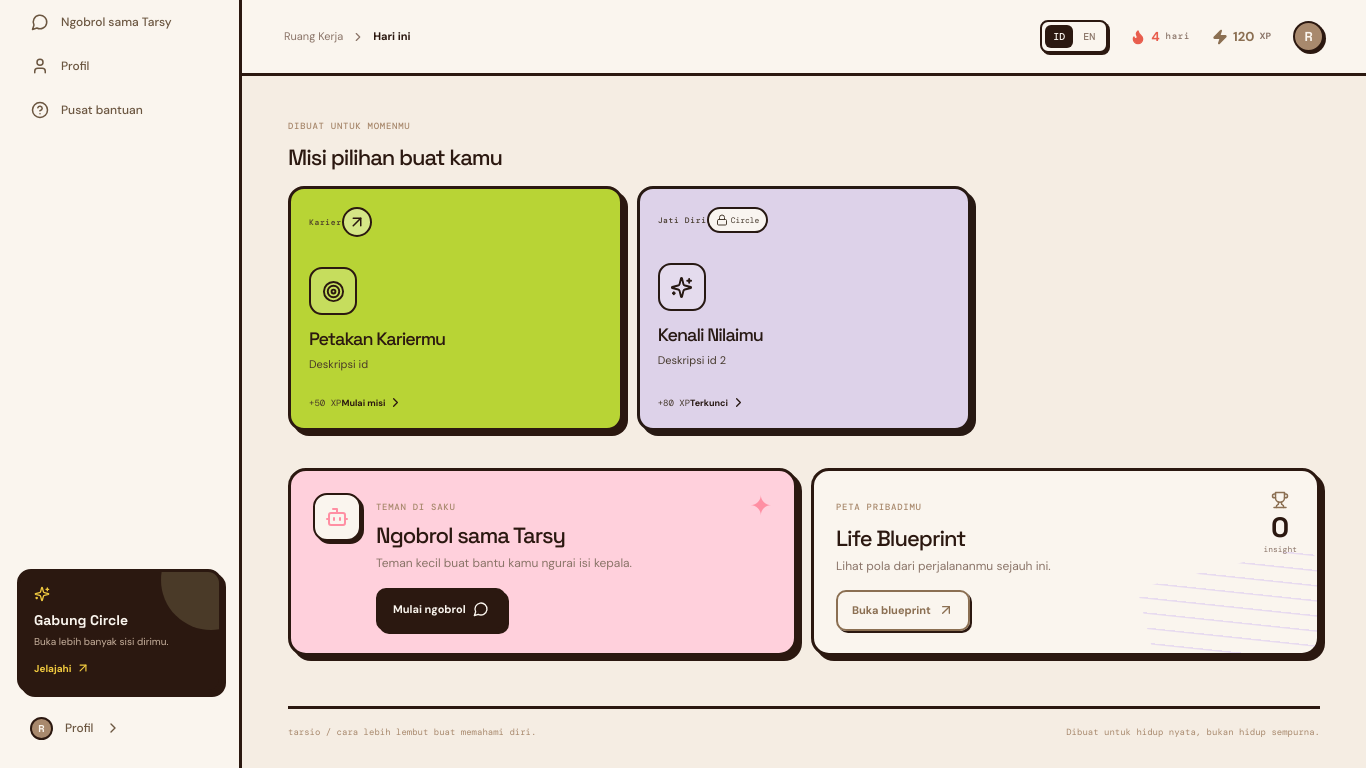
Test: Dashboard › opens the upgrade paywall from the sidebar CTA
(page scrolled)
Click the button "Jelajahi" at (62, 668), box [34, 661, 90, 676]
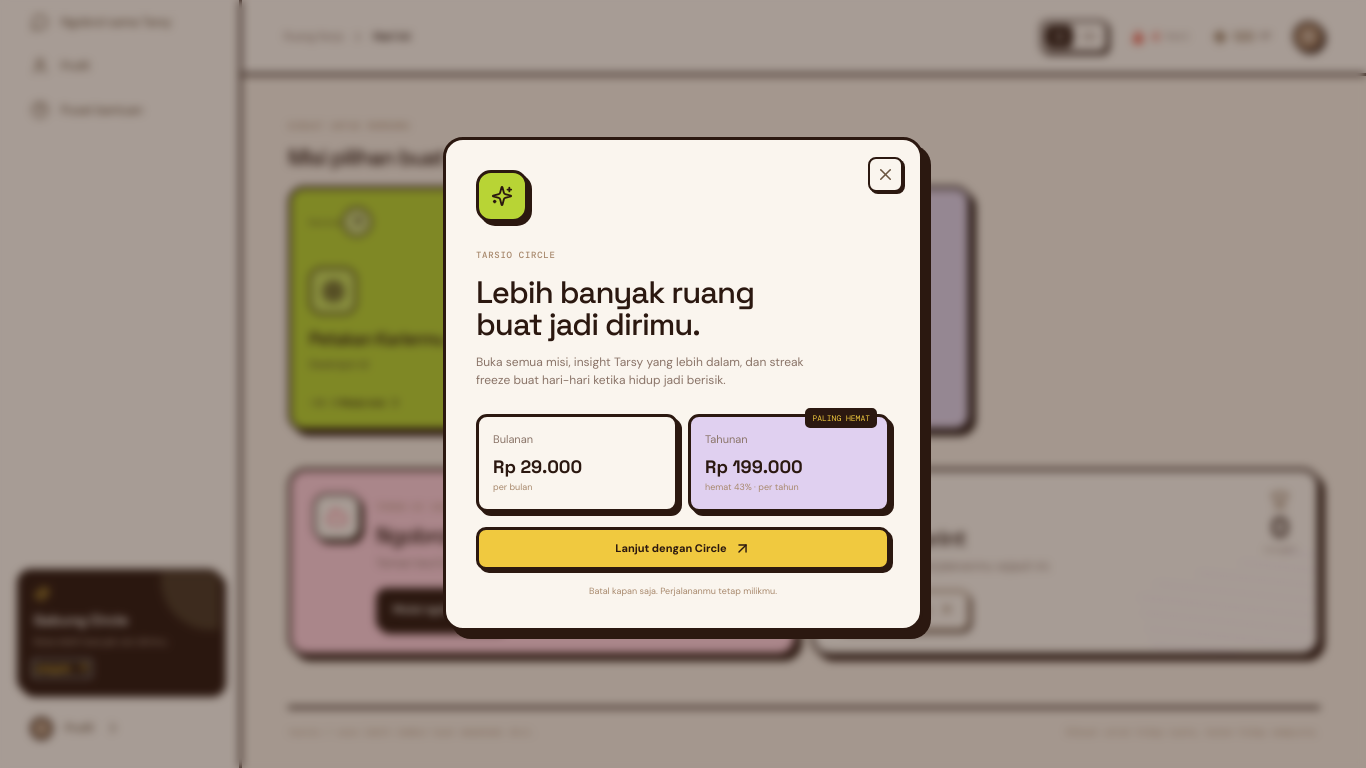
Now the heading "Lebih banyak ruang buat jadi dirimu." is shown, box [476, 272, 754, 344]
